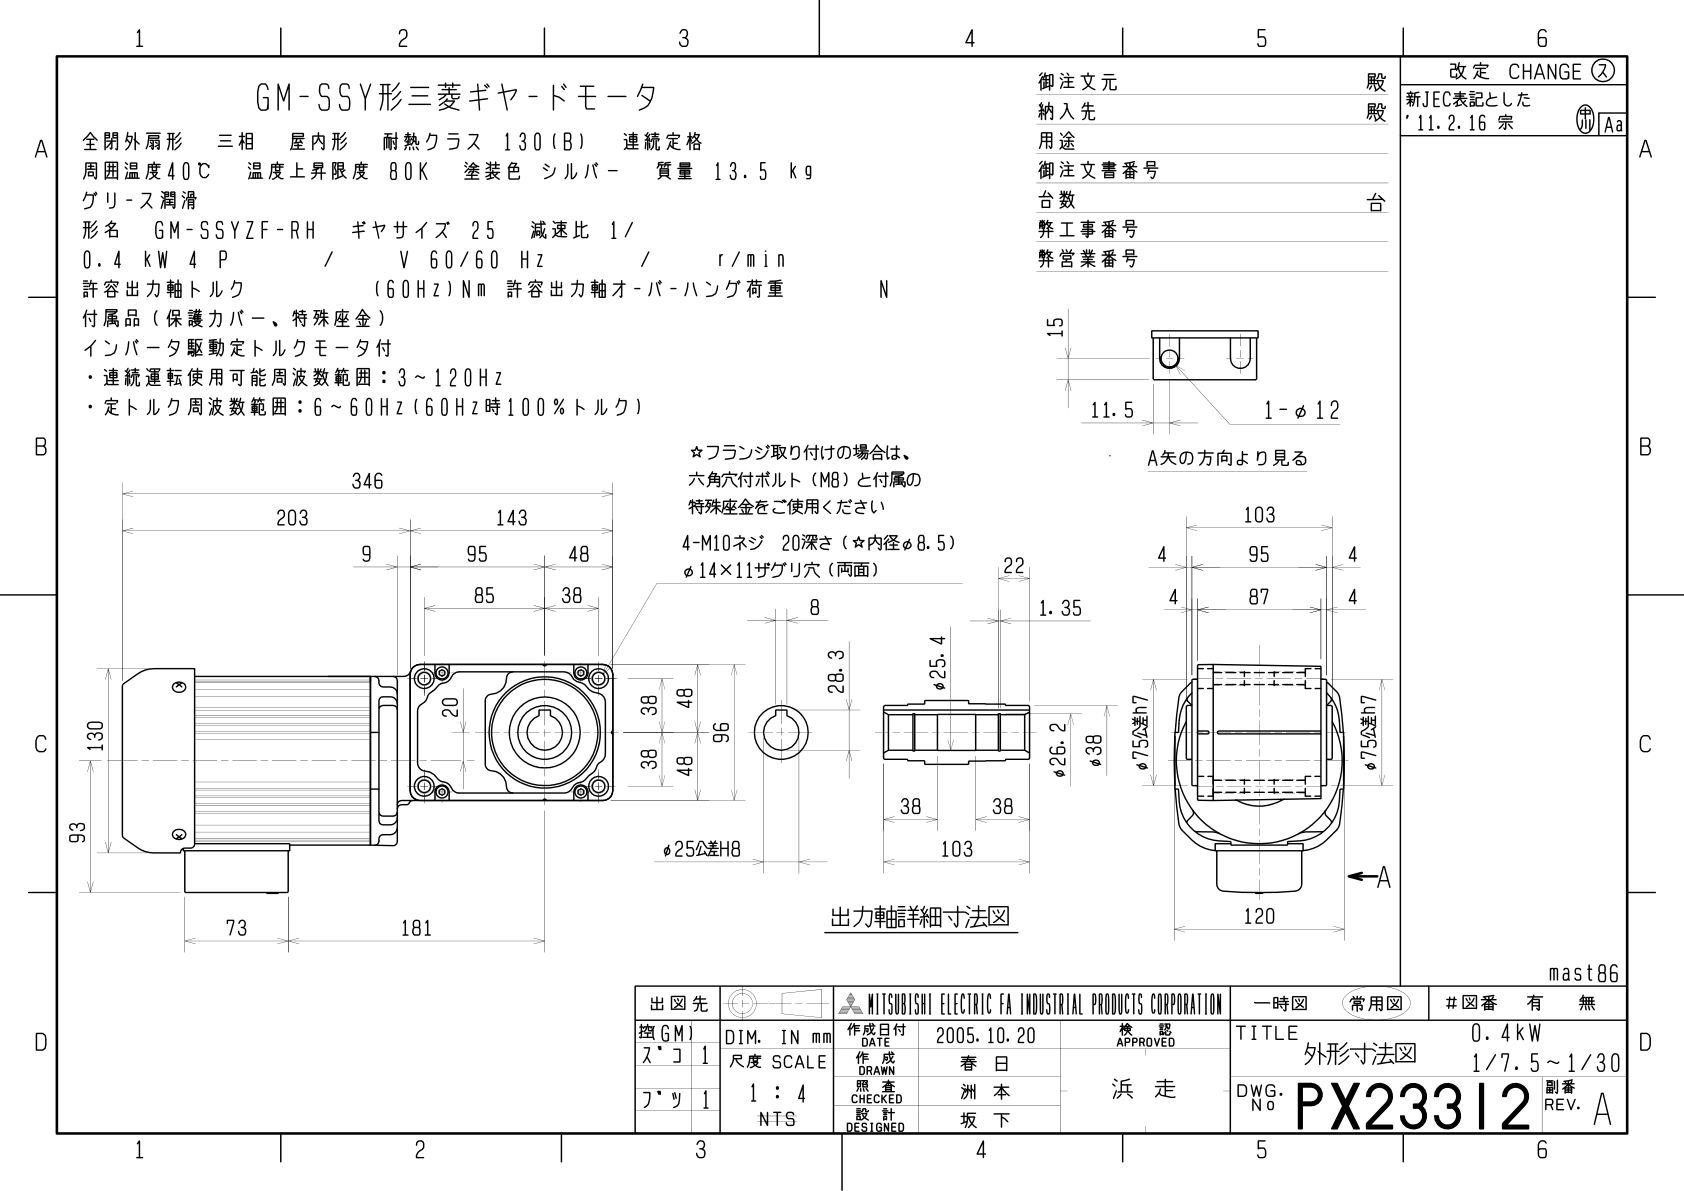GM_SSY_インバータ屋内_三相: (67, 429, 1395, 969)
